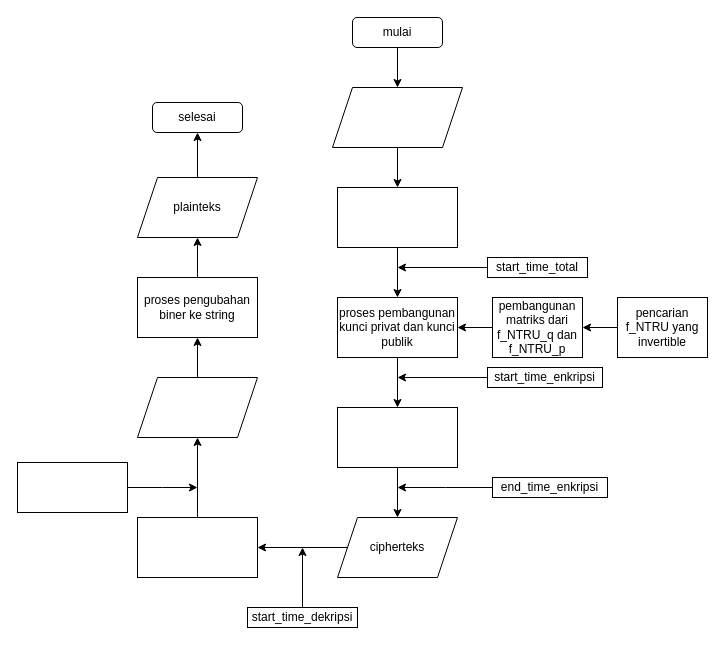
Some shapes in this 725 by 645 pixel diagram are drawn without their labels. The shapes that lost their labels are listed below. From the top down, each one's box as (x1, y1, x2, y2) in pixels, then its label:
(332, 86, 462, 148): plainteks dari test_message.txt
(336, 186, 458, 248): proses pengubahan string ke biner
(136, 376, 258, 438): plainteks dalam biner
(336, 406, 458, 468): proses enkripsi plainteks
(16, 462, 128, 512): end_time_dekripsi dan end_time_total
(136, 516, 258, 578): proses dekripsi
